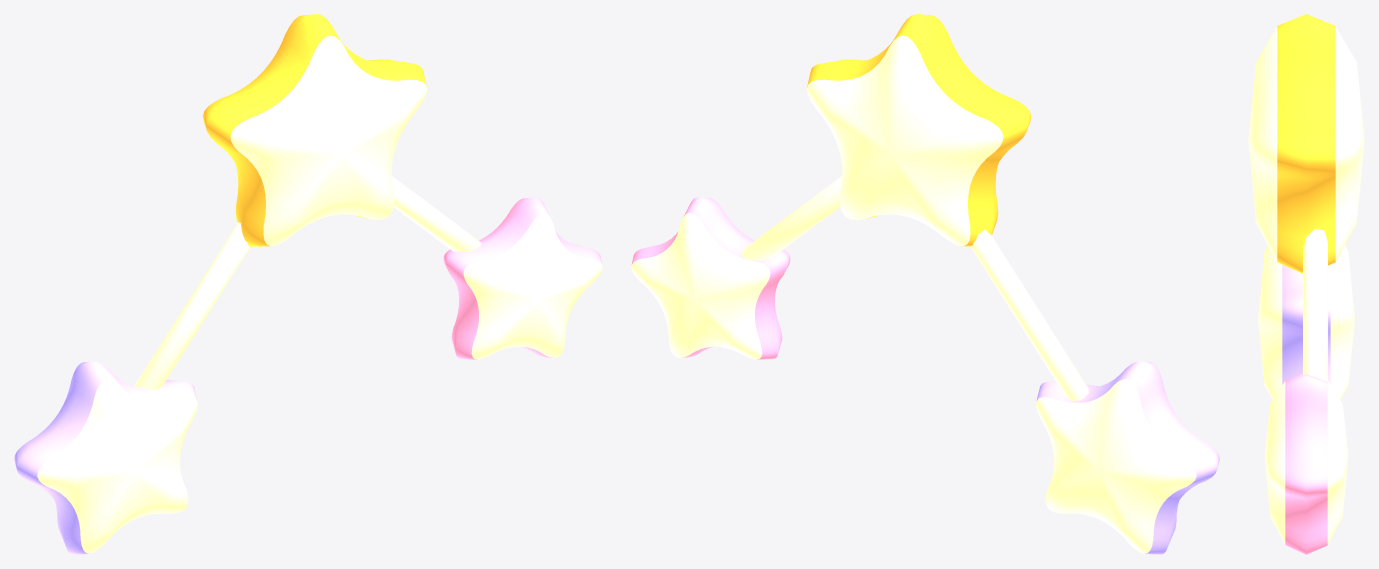
Rendered from estrela-trio.glb.
3 views of the same model, side by side, from view 1: azimuth 30°, elevation 25°; view 2: azimuth 150°, elevation 25°; view 3: azimuth 270°, elevation 25° (orthographic). The views are drawn at different scales.
Parts seen in each view (by area): view 1: estrela-trio; view 2: estrela-trio; view 3: estrela-trio.
Part boxes in pixels (bbox=[...]): estrela-trio: bbox=[14, 14, 602, 554]; estrela-trio: bbox=[631, 14, 1219, 554]; estrela-trio: bbox=[1248, 14, 1364, 554].
Size of the model in its own units: 0.1575 by 0.1242 by 0.0259.
